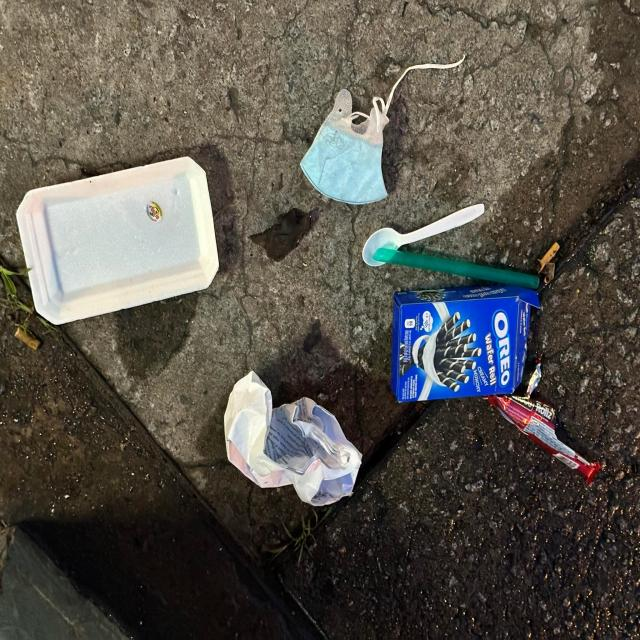cardboard box: (393, 288, 540, 403)
drinking straw: (371, 247, 540, 289)
foam box: (16, 155, 219, 327)
mask: (300, 89, 390, 204)
packet: (486, 359, 602, 488)
paper: (223, 371, 363, 508)
plastic utensil: (362, 202, 485, 267)
